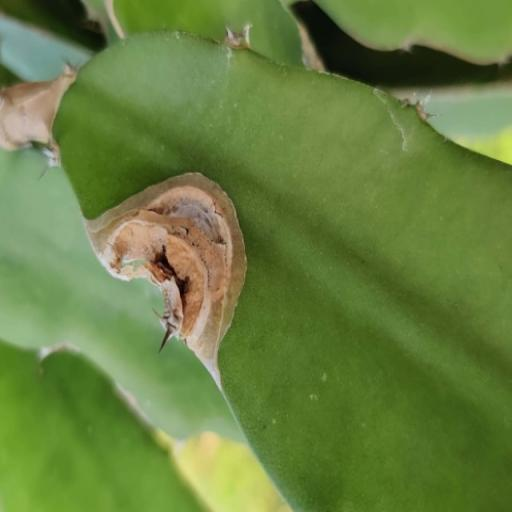stemcanker: (305, 388, 325, 418), (315, 365, 335, 391), (84, 416, 98, 441), (270, 414, 284, 432), (159, 141, 170, 158)
